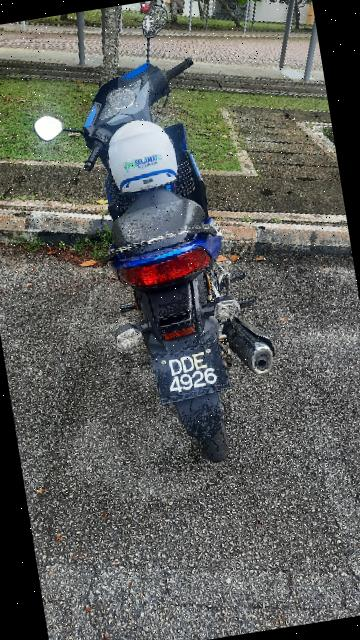License_Plate: (147, 341, 240, 417)
motorcycle: (21, 12, 334, 532)
